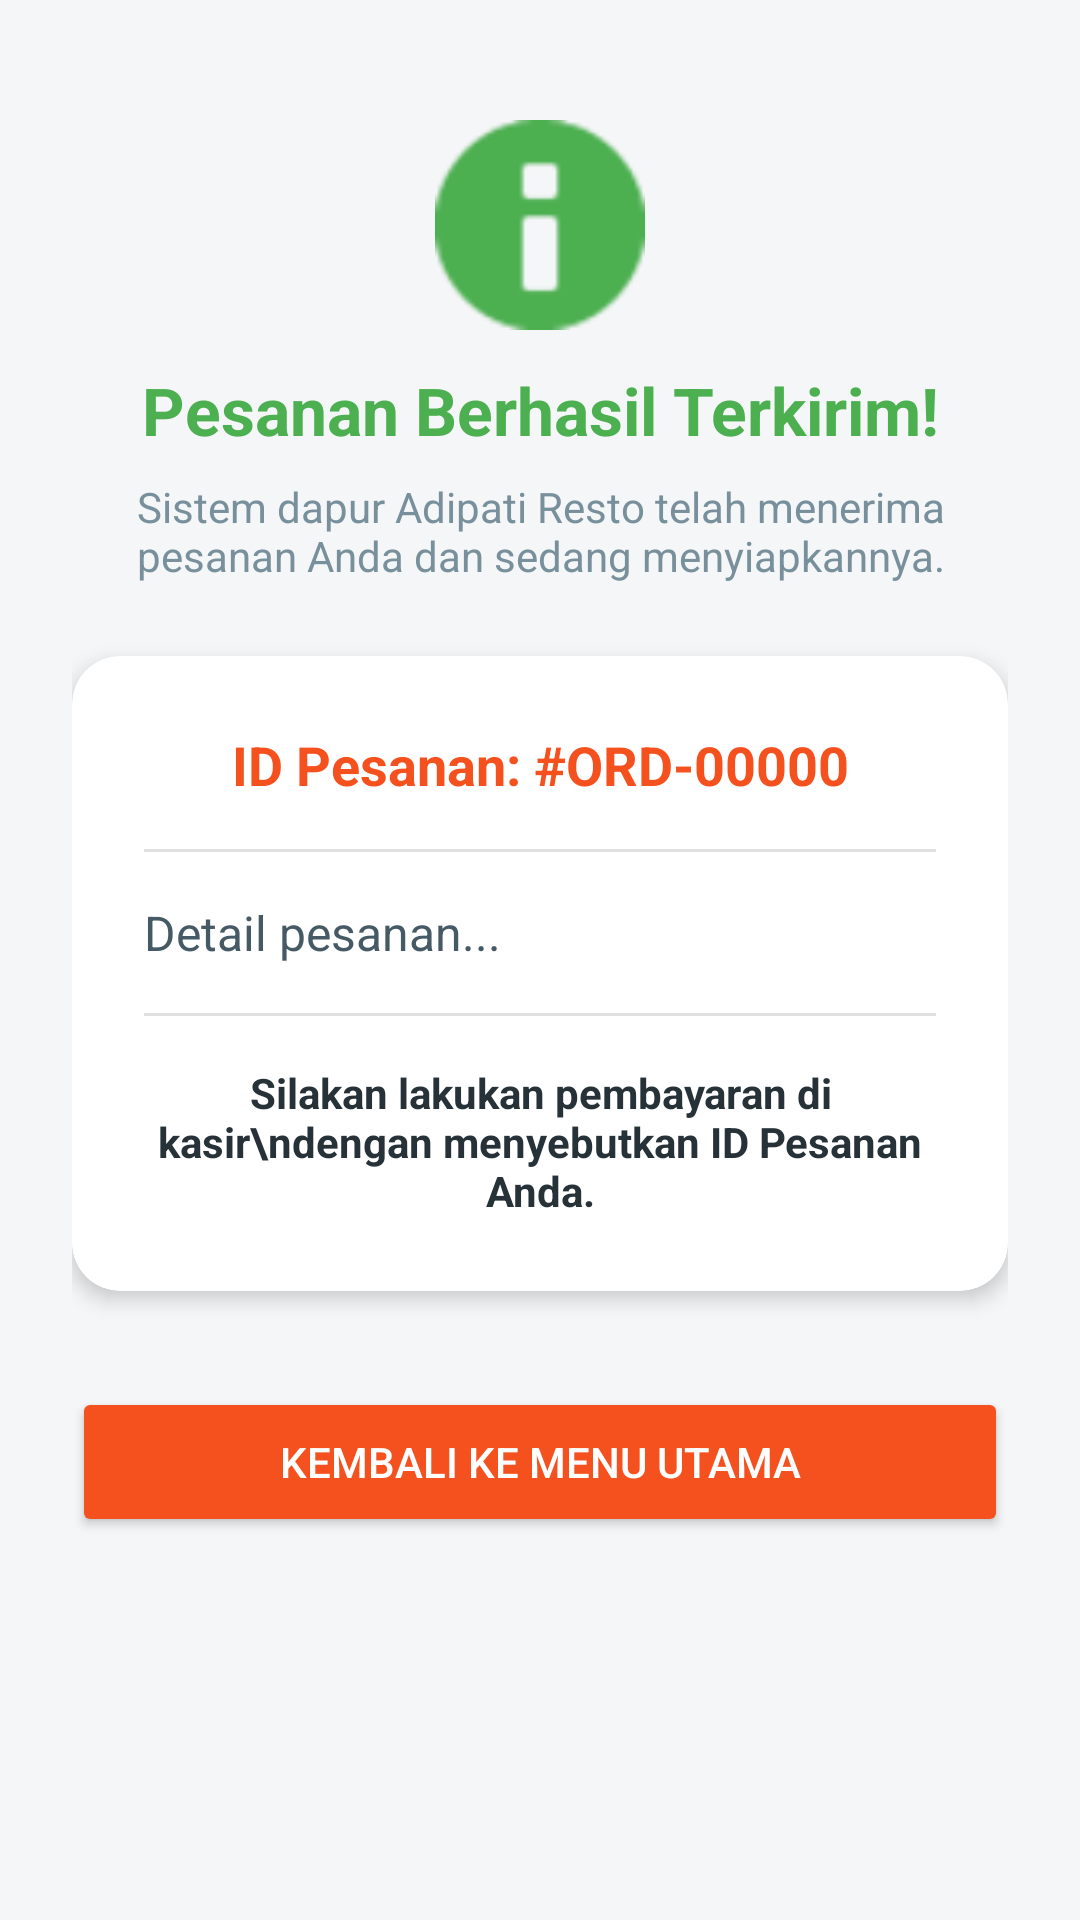

Icon bounding boxes for this 1080×1920 phone screenshot, format (left=x1, top=y1, right=x2, bottom=y2):
info: (left=435, top=120, right=645, bottom=330)
